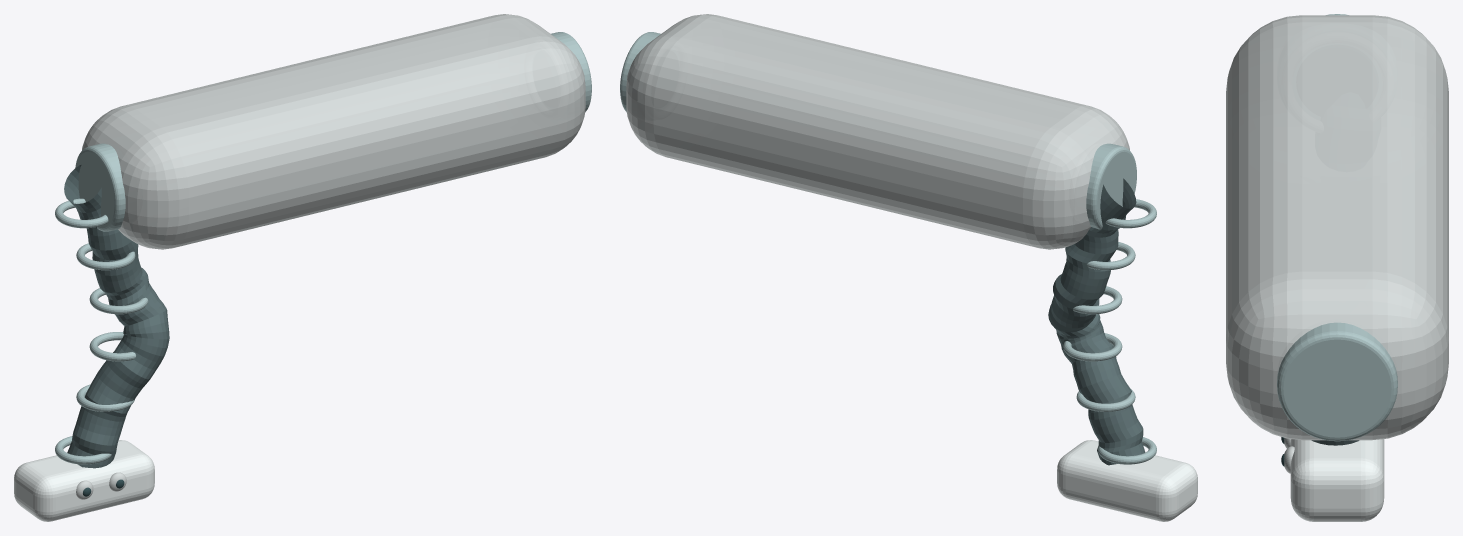
Rendered from voice-vac-machine.glb.
The picture shows the model from 3 angles, left to right: view 1: azimuth 30°, elevation 25°; view 2: azimuth 150°, elevation 25°; view 3: azimuth 270°, elevation 25°; orthographic projection. The views are drawn at different scales.
Parts seen in each view (by area): view 1: VoiceVacBody, HoseMesh, NozzleBody, PortLeft, PortRight, HoseSleeve3, HoseSleeve0, HoseSleeve1, HoseSleeve2; view 2: VoiceVacBody, HoseMesh, NozzleBody, PortLeft, PortRight, HoseSleeve3, HoseSleeve5; view 3: VoiceVacBody, PortRight, NozzleBody.
Boxes of the visible parts, bbox=[...] form: VoiceVacBody: bbox=[82, 14, 585, 249]; HoseMesh: bbox=[64, 165, 169, 468]; NozzleBody: bbox=[14, 440, 154, 521]; PortLeft: bbox=[75, 143, 125, 231]; PortRight: bbox=[551, 32, 591, 112]; HoseSleeve3: bbox=[89, 332, 135, 361]; HoseSleeve0: bbox=[55, 198, 108, 228]; HoseSleeve1: bbox=[76, 243, 135, 270]; HoseSleeve2: bbox=[89, 288, 148, 314]; VoiceVacBody: bbox=[626, 14, 1129, 249]; HoseMesh: bbox=[1048, 178, 1145, 465]; NozzleBody: bbox=[1057, 440, 1197, 521]; PortLeft: bbox=[1086, 143, 1136, 229]; PortRight: bbox=[620, 32, 660, 112]; HoseSleeve3: bbox=[1063, 333, 1122, 361]; HoseSleeve5: bbox=[1098, 437, 1156, 464]; VoiceVacBody: bbox=[1226, 15, 1448, 440]; PortRight: bbox=[1277, 322, 1397, 441]; NozzleBody: bbox=[1290, 439, 1384, 521].
Bounding box in the file's own units: 8.24 × 5.31 × 2.1.
